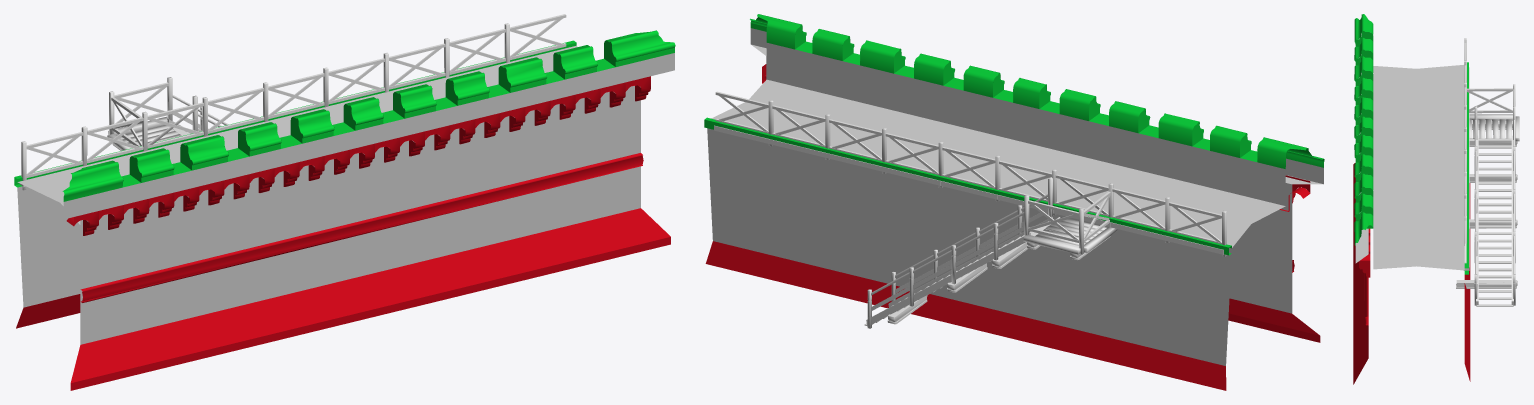
File: Wall_1 (1).fbx
The picture shows the model from 3 angles, left to right: view 1: azimuth 30°, elevation 25°; view 2: azimuth 150°, elevation 25°; view 3: azimuth 270°, elevation 25°; orthographic projection. The views are drawn at different scales.
Visible parts, largest first — view 1: Group_4.015, Group_3.012, Group_3.011, Group_3.013; view 2: Group_4.015, Group_3.012, Group_3.011, Group_3.013; view 3: Group_4.015, Group_3.011, Group_3.012.
Part boxes in pixels (box(x1,y1,x2,y2)): Group_4.015: box(14, 30, 675, 390); Group_3.012: box(19, 14, 566, 190); Group_3.011: box(107, 77, 228, 150); Group_3.013: box(147, 102, 203, 148); Group_4.015: box(704, 14, 1324, 390); Group_3.012: box(714, 91, 1226, 256); Group_3.011: box(864, 177, 1117, 328); Group_3.013: box(1054, 174, 1110, 226); Group_4.015: box(1353, 14, 1470, 384); Group_3.011: box(1456, 84, 1519, 306); Group_3.012: box(1463, 38, 1469, 270).
Size of the model in its own units: 2095 by 691 by 654.
